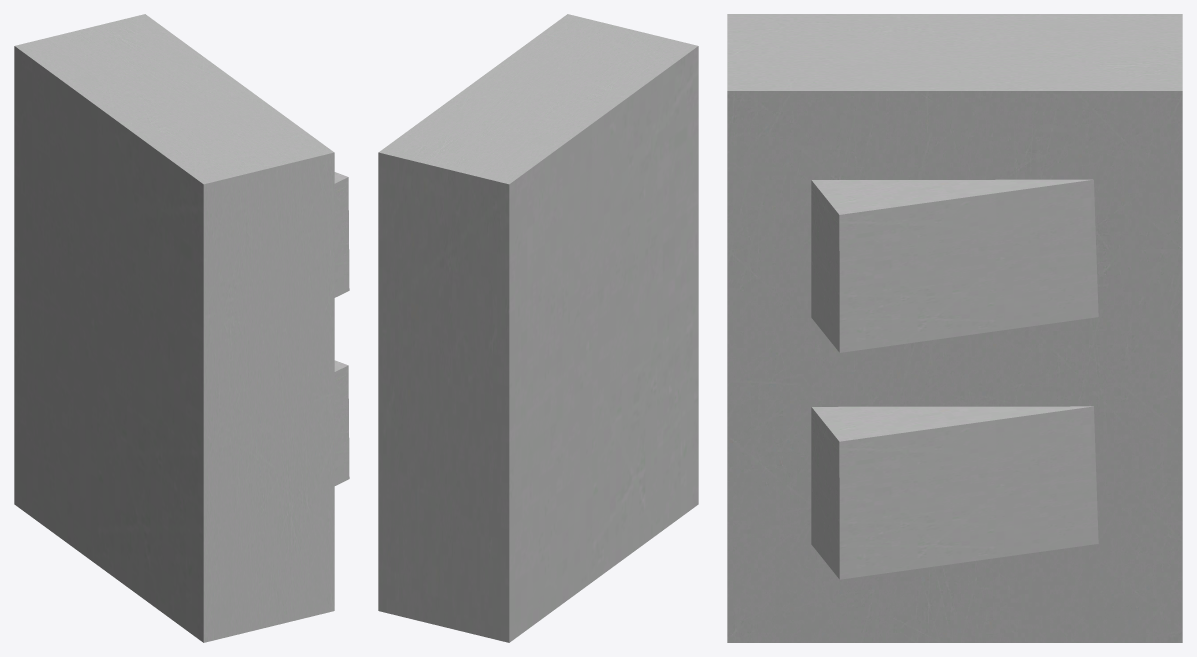
Rendered from apagador.obj.
The picture shows the model from 3 angles, left to right: view 1: azimuth 30°, elevation 25°; view 2: azimuth 150°, elevation 25°; view 3: azimuth 270°, elevation 25°; orthographic projection. The views are drawn at different scales.
Visible parts, largest first — view 1: caja.003_Cube.045, switch.006_Cube.046, switch.007_Cube.081; view 2: caja.003_Cube.045; view 3: caja.003_Cube.045, switch.007_Cube.081, switch.006_Cube.046.
Part boxes in pixels (box(x1,y1,x2,y2)): caja.003_Cube.045: box(14, 14, 334, 642); switch.006_Cube.046: box(334, 172, 349, 297); switch.007_Cube.081: box(334, 360, 349, 485); caja.003_Cube.045: box(378, 14, 698, 642); caja.003_Cube.045: box(727, 14, 1182, 642); switch.007_Cube.081: box(811, 406, 1098, 579); switch.006_Cube.046: box(811, 179, 1098, 352).
Size of the model in its own units: 0.6482 by 1.48 by 1.1.
